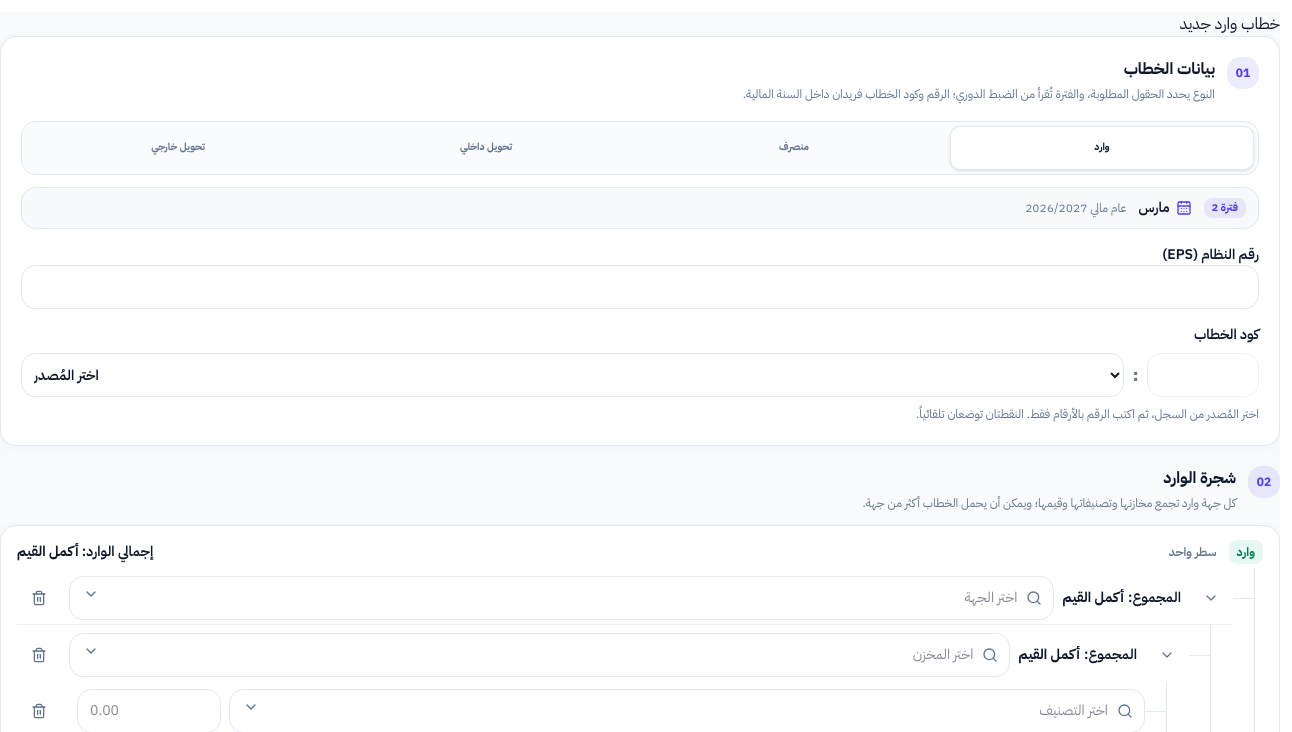
APS letter entry screen › opens a new outbound tree with the smallest-code purpose already present
Click the button "منصرف": (794, 148) x1=642 y1=126 x2=946 y2=170
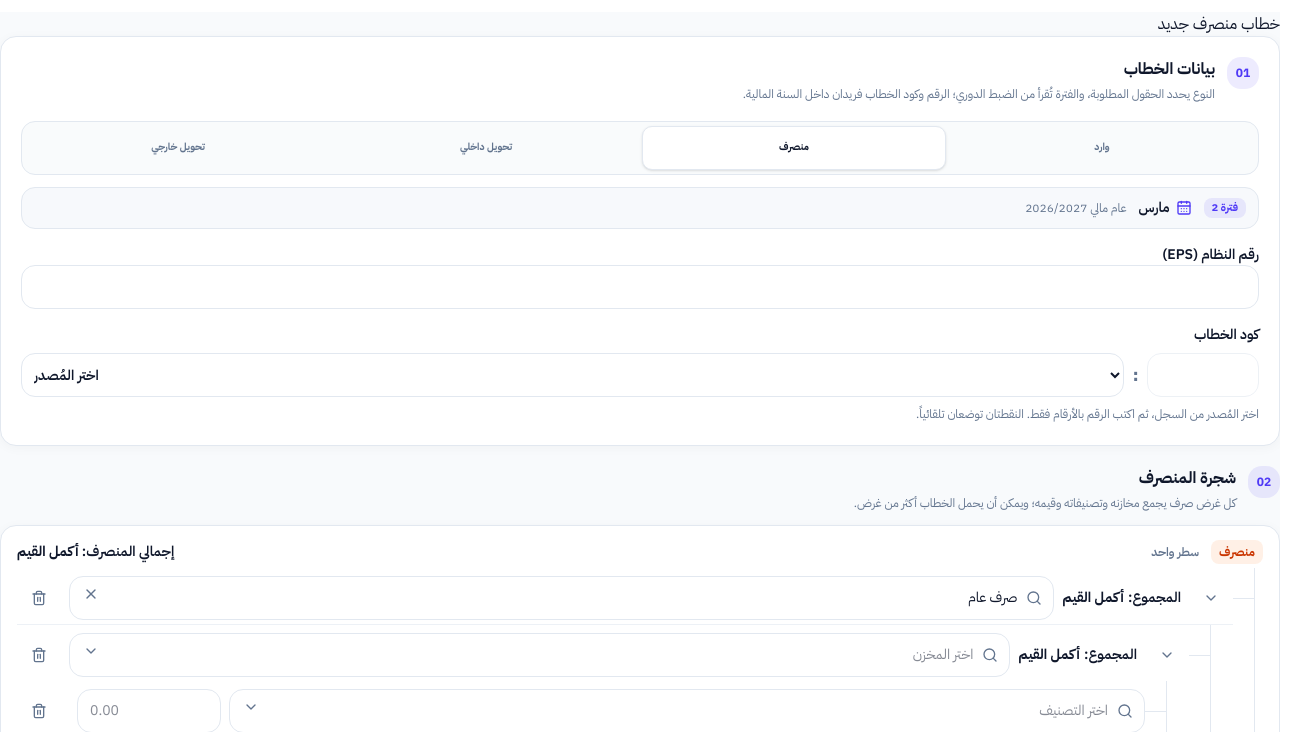
Result: the dropdown named "اختر غرض الصرف" holds "صرف عام" at x1=69 y1=576 x2=1054 y2=620
